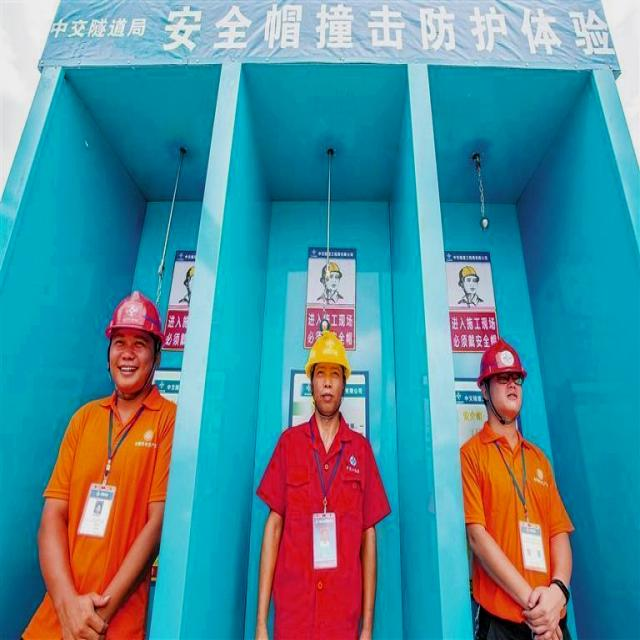face_nomask: (106, 338, 156, 402), (312, 363, 342, 416), (493, 372, 524, 421)
hand_noglove: (53, 592, 116, 640), (521, 583, 571, 640)
head_helmet: (106, 292, 162, 336), (476, 337, 528, 382), (305, 334, 353, 374)
person: (37, 292, 162, 636), (258, 333, 380, 638), (462, 342, 576, 640)
